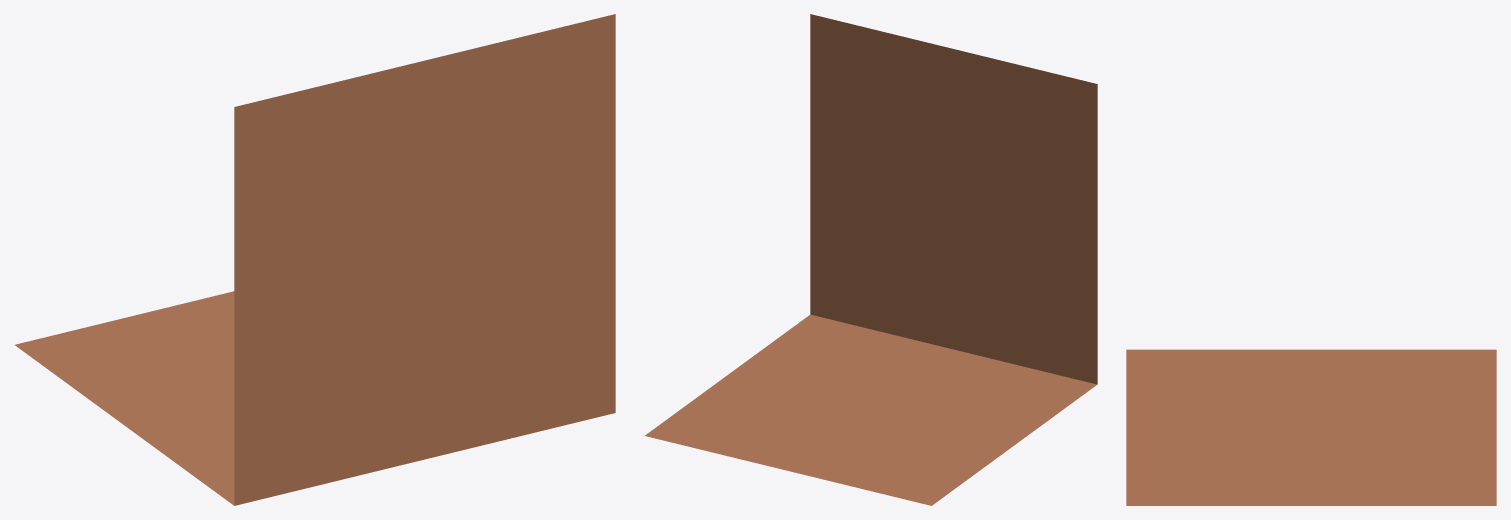
The model's file is Edge Bottom.fbx.
3 views of the same model, side by side, from view 1: azimuth 30°, elevation 25°; view 2: azimuth 150°, elevation 25°; view 3: azimuth 270°, elevation 25° (orthographic). The views are drawn at different scales.
Visible parts, largest first — view 1: Edge Bottom; view 2: Edge Bottom; view 3: Edge Bottom.
Boxes of the visible parts, x1=… form: Edge Bottom: x1=15, y1=14, x2=615, y2=505; Edge Bottom: x1=645, y1=14, x2=1097, y2=505; Edge Bottom: x1=1126, y1=349, x2=1496, y2=505.
Bounding box in the file's own units: 50 × 50 × 50.
